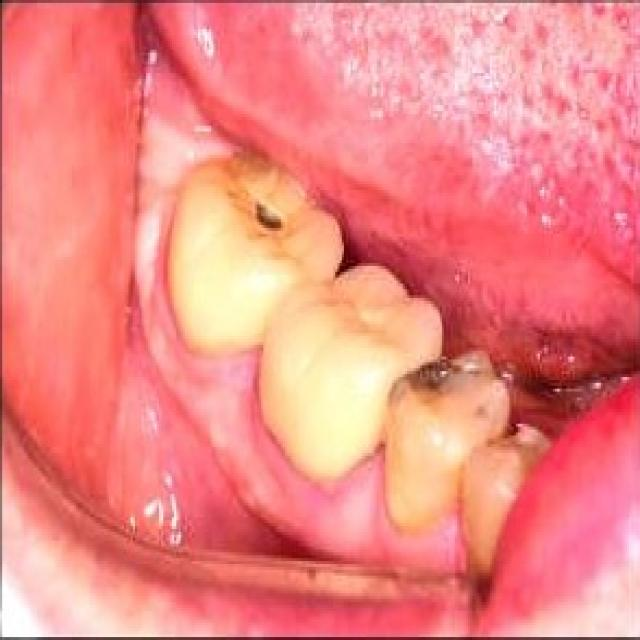caries: (226, 168, 296, 260), (386, 332, 470, 404)
